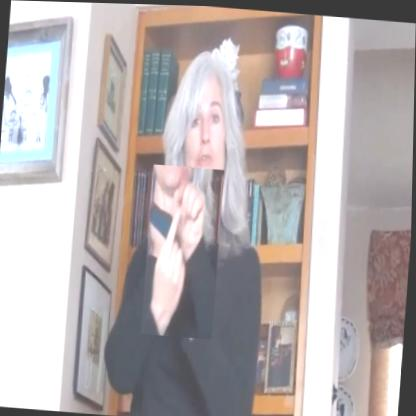NiceToMeetYou: (142, 162, 225, 338)
